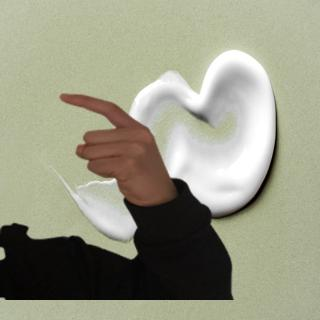WHY: (49, 87, 179, 205)
